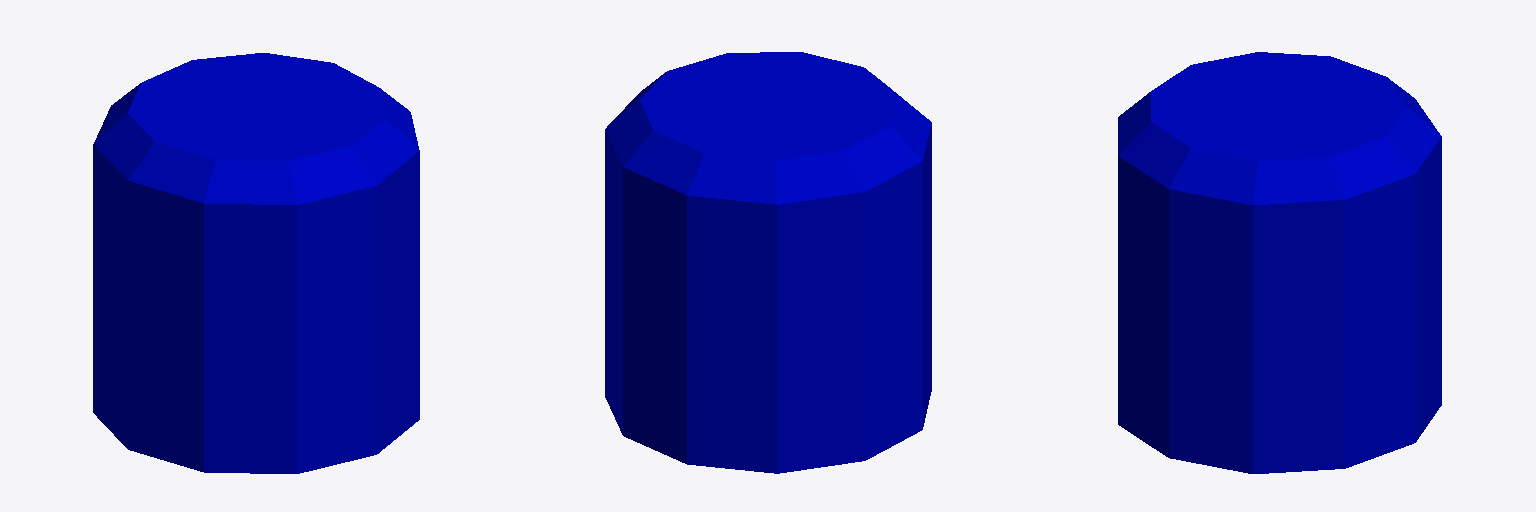
The model's file is left_button.obj.
The picture shows the model from 3 angles: view 1: azimuth 30°, elevation 25°; view 2: azimuth 150°, elevation 25°; view 3: azimuth 270°, elevation 25°; orthographic projection.
Parts seen in each view (by area): view 1: left; view 2: left; view 3: left.
Part boxes in pixels (x1,y1,x2,y2): left: (93,53,419,473); left: (605,52,931,473); left: (1118,52,1441,473).
Bounding box in the file's own units: 0.1729 × 0.1746 × 0.1711.